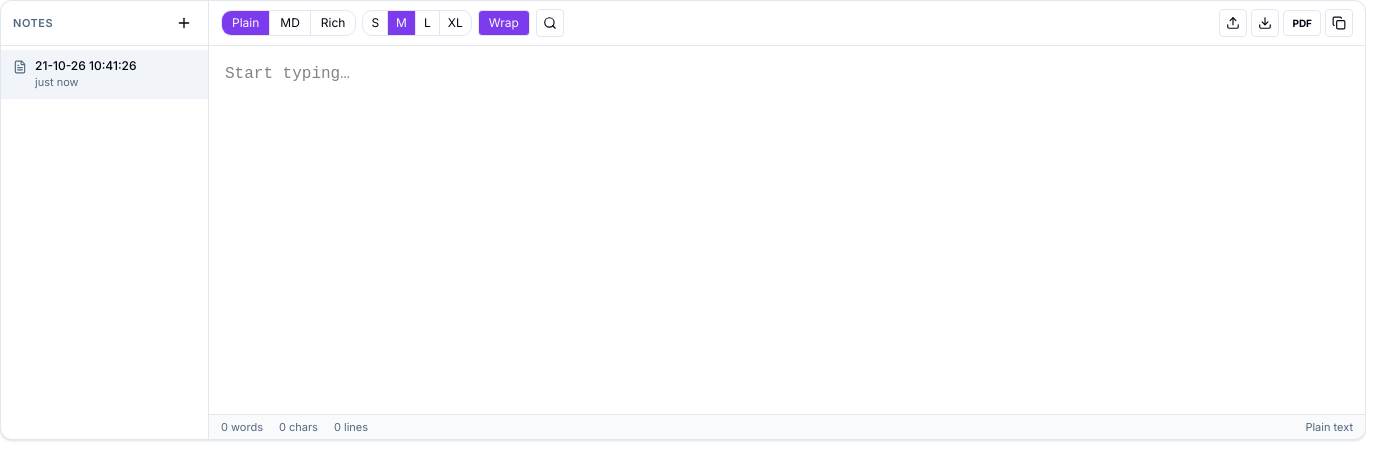
EditorPad › shows Find & Replace panel when search icon is clicked
Click the button titled "Find & Replace (Ctrl+H)" at (550, 23), box [536, 9, 564, 37]
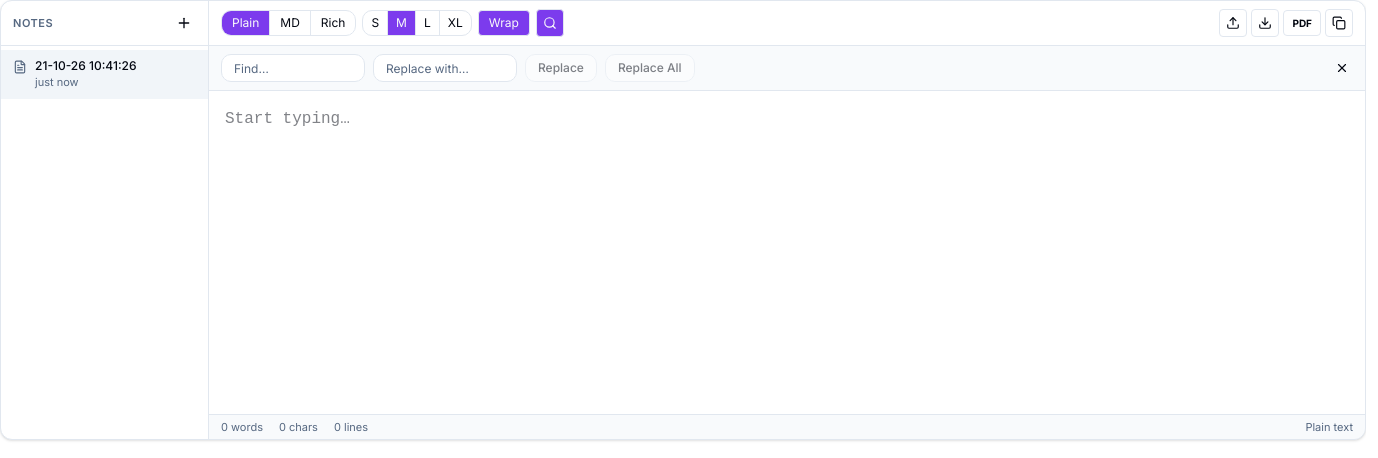
Expected: the field with placeholder "Find…" is shown, [221, 54, 365, 82]
Expected: the field with placeholder "Replace with…" is shown, [373, 54, 517, 82]
